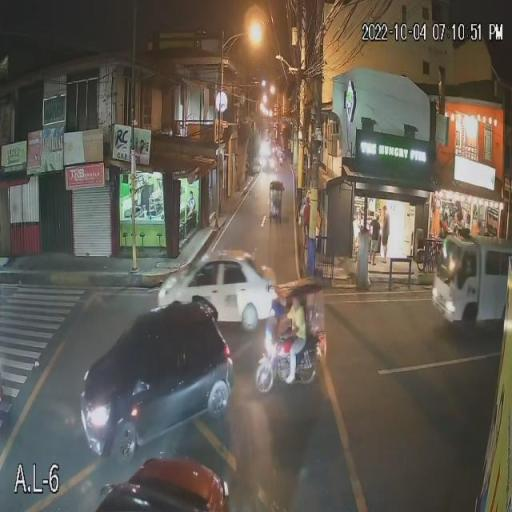motorcycle: (253, 315, 331, 409)
rider: (283, 295, 309, 389)
